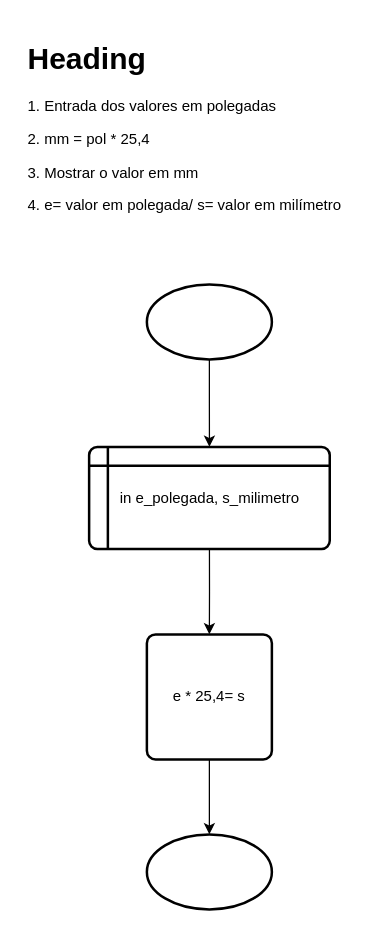
This 380x931 diagram has some shape labels left out. The shapes that lost their labels are listed below. From the top down, each one's centre as x and y in pixels, then its label:
At (208,321): "start".
At (208,871): "end".
